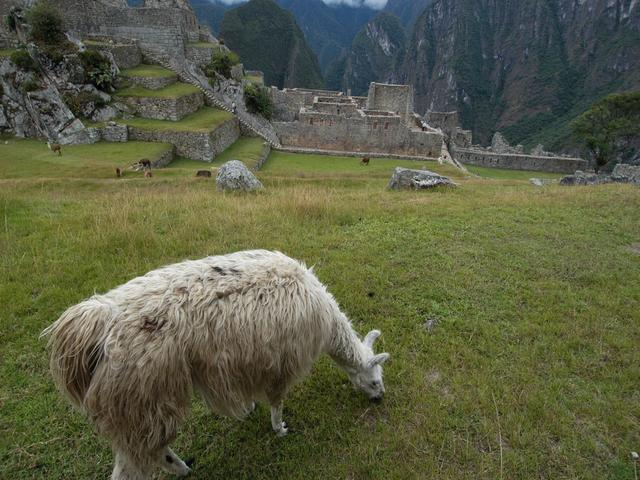sheep: (1, 205, 402, 475)
